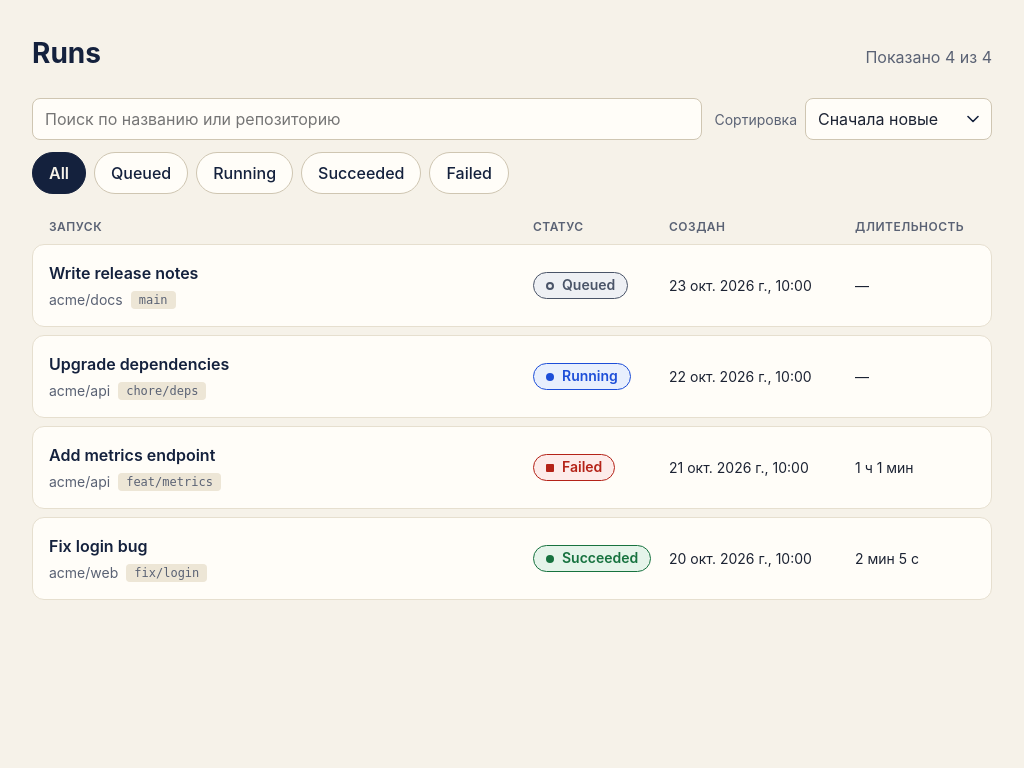
RunsPage › shows an empty state and resets filters
The image size is (1024, 768).
Type "nothing matches this" into the search field.
click(367, 119); type("nothing matches this")  # box [32,98,702,140]
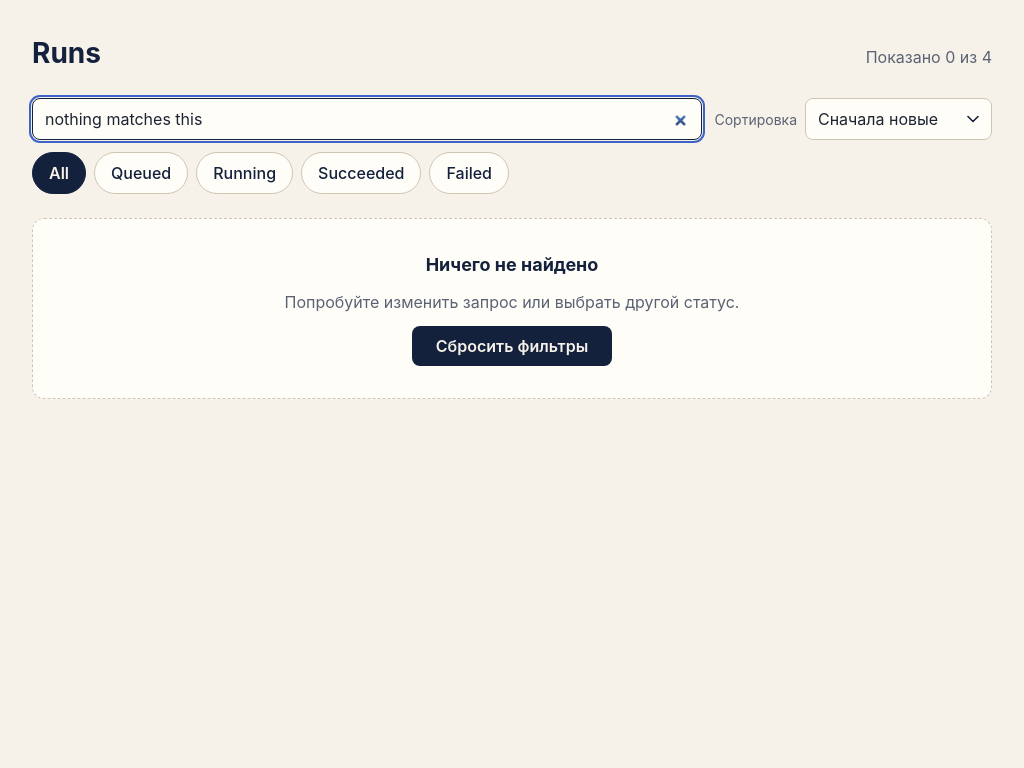
Expected: the heading "Ничего не найдено" is shown, [426,251,598,278]
Click the button "Сбросить фильтры".
click(512, 346)  # box [412,326,612,366]
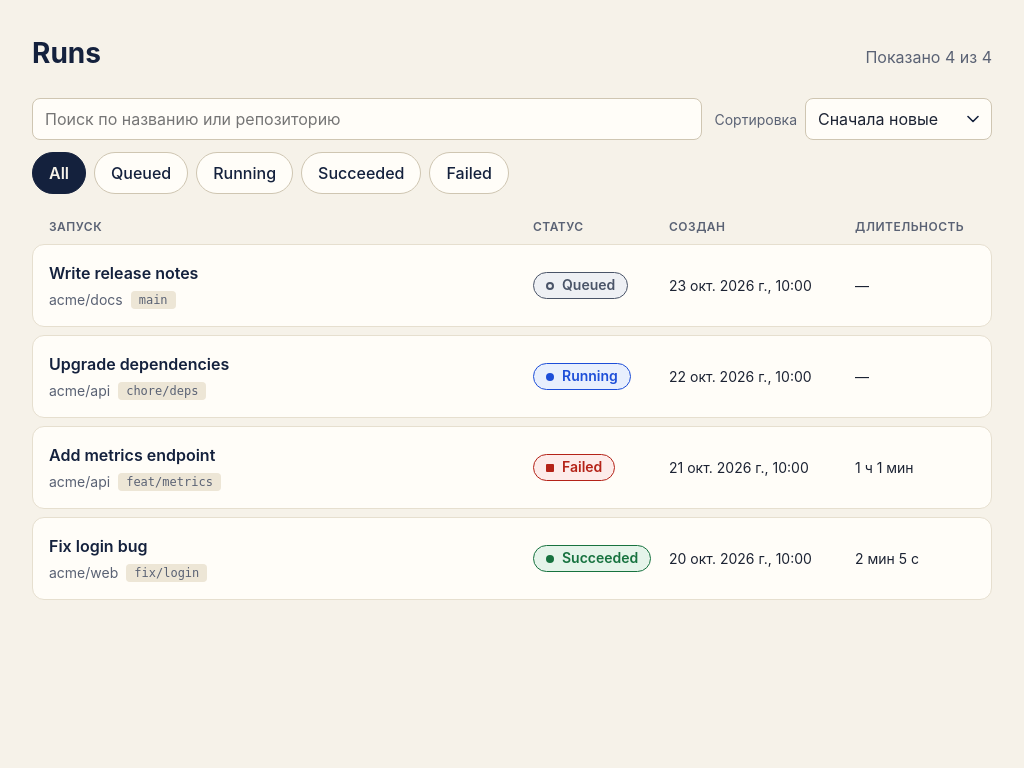
Expected: the search field is empty, [32,98,702,140]
Expected: the number of list items is 4, [32,244,992,327]; [32,335,992,418]; [32,426,992,509]; [32,517,992,600]
